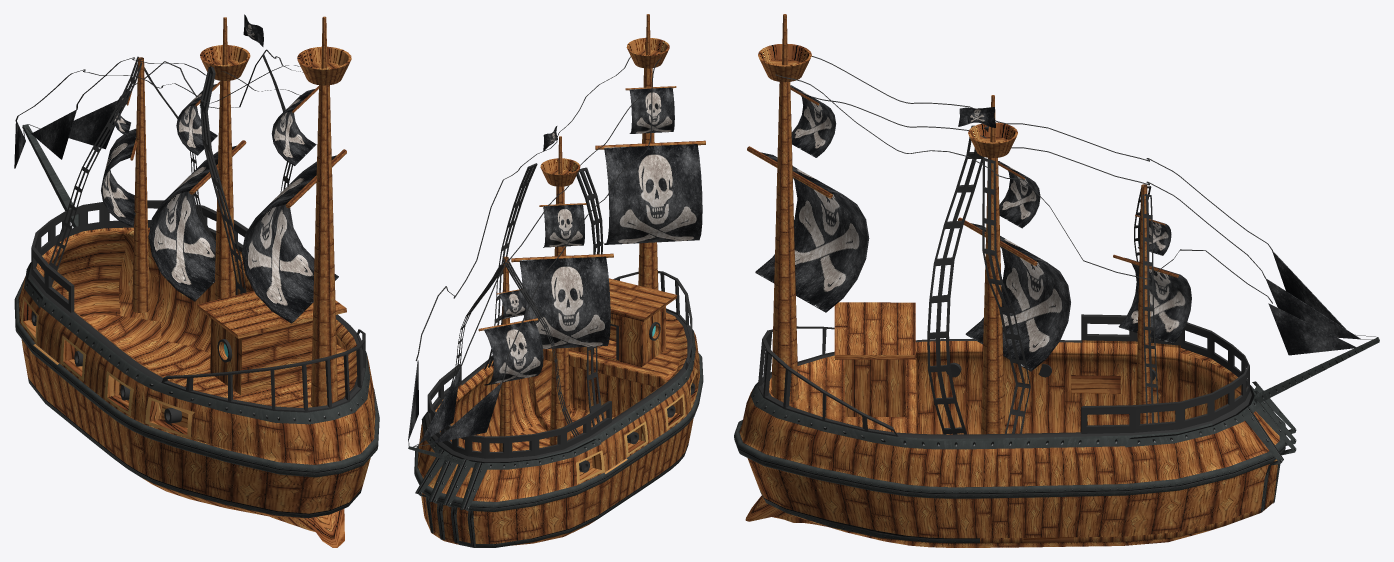
The model's file is ship.fbx.
3 views of the same model, side by side, from view 1: azimuth 30°, elevation 25°; view 2: azimuth 150°, elevation 25°; view 3: azimuth 270°, elevation 25° (orthographic). The views are drawn at different scales.
Parts seen in each view (by area): view 1: polySurface5, pCylinder15, pCylinder13, polySurface3, pCylinder14, pCylinder25, pPlane7, pPlane11, pCylinder28, pCube2, pPlane5; view 2: polySurface5, pCylinder15, pCylinder13, polySurface3, pCylinder14, pCylinder25, pCylinder28, pPlane7, pPlane8, pPlane11, pCylinder19, pCylinder16 (+3 smaller); view 3: polySurface5, pCylinder15, pCylinder13, polySurface3, pCylinder14, pCylinder25, pPlane7, pPlane8, pCylinder28, pPlane5, pCube2, pCylinder18.
Boxes of the visible parts, x1,y1,x2,y2 form: polySurface5: (14,200,379,547); pCylinder15: (241,16,351,406); pCylinder13: (148,17,250,301); polySurface3: (197,291,346,395); pCylinder14: (101,57,149,312); pCylinder25: (14,100,122,168); pPlane7: (200,66,246,294); pPlane11: (44,56,142,285); pCylinder28: (15,49,303,121); pCube2: (22,124,78,227); pPlane5: (144,67,215,240); polySurface5: (414,271,703,547); pCylinder15: (595,14,705,289); pCylinder13: (511,136,613,445); polySurface3: (569,278,677,366); pCylinder14: (478,256,543,451); pCylinder25: (408,360,502,447); pCylinder28: (415,56,660,382); pPlane7: (574,167,604,426); pPlane8: (484,163,537,368); pPlane11: (502,258,579,436); pCylinder19: (460,462,489,547); pCylinder16: (442,459,473,543); polySurface5: (734,314,1285,547); pCylinder15: (747,14,869,402); pCylinder13: (958,95,1070,434); polySurface3: (834,302,915,416); pCylinder14: (1113,184,1191,423); pCylinder25: (1265,251,1377,355); pPlane7: (927,125,988,434); pPlane8: (982,157,1030,433); pCylinder28: (775,56,1272,303); pPlane5: (1142,194,1159,423); pCube2: (1253,337,1379,403); pCylinder18: (1242,406,1283,512).
Bounding box in the file's own units: 16.14 × 33.88 × 38.71.
5 materials, 3 textured.
